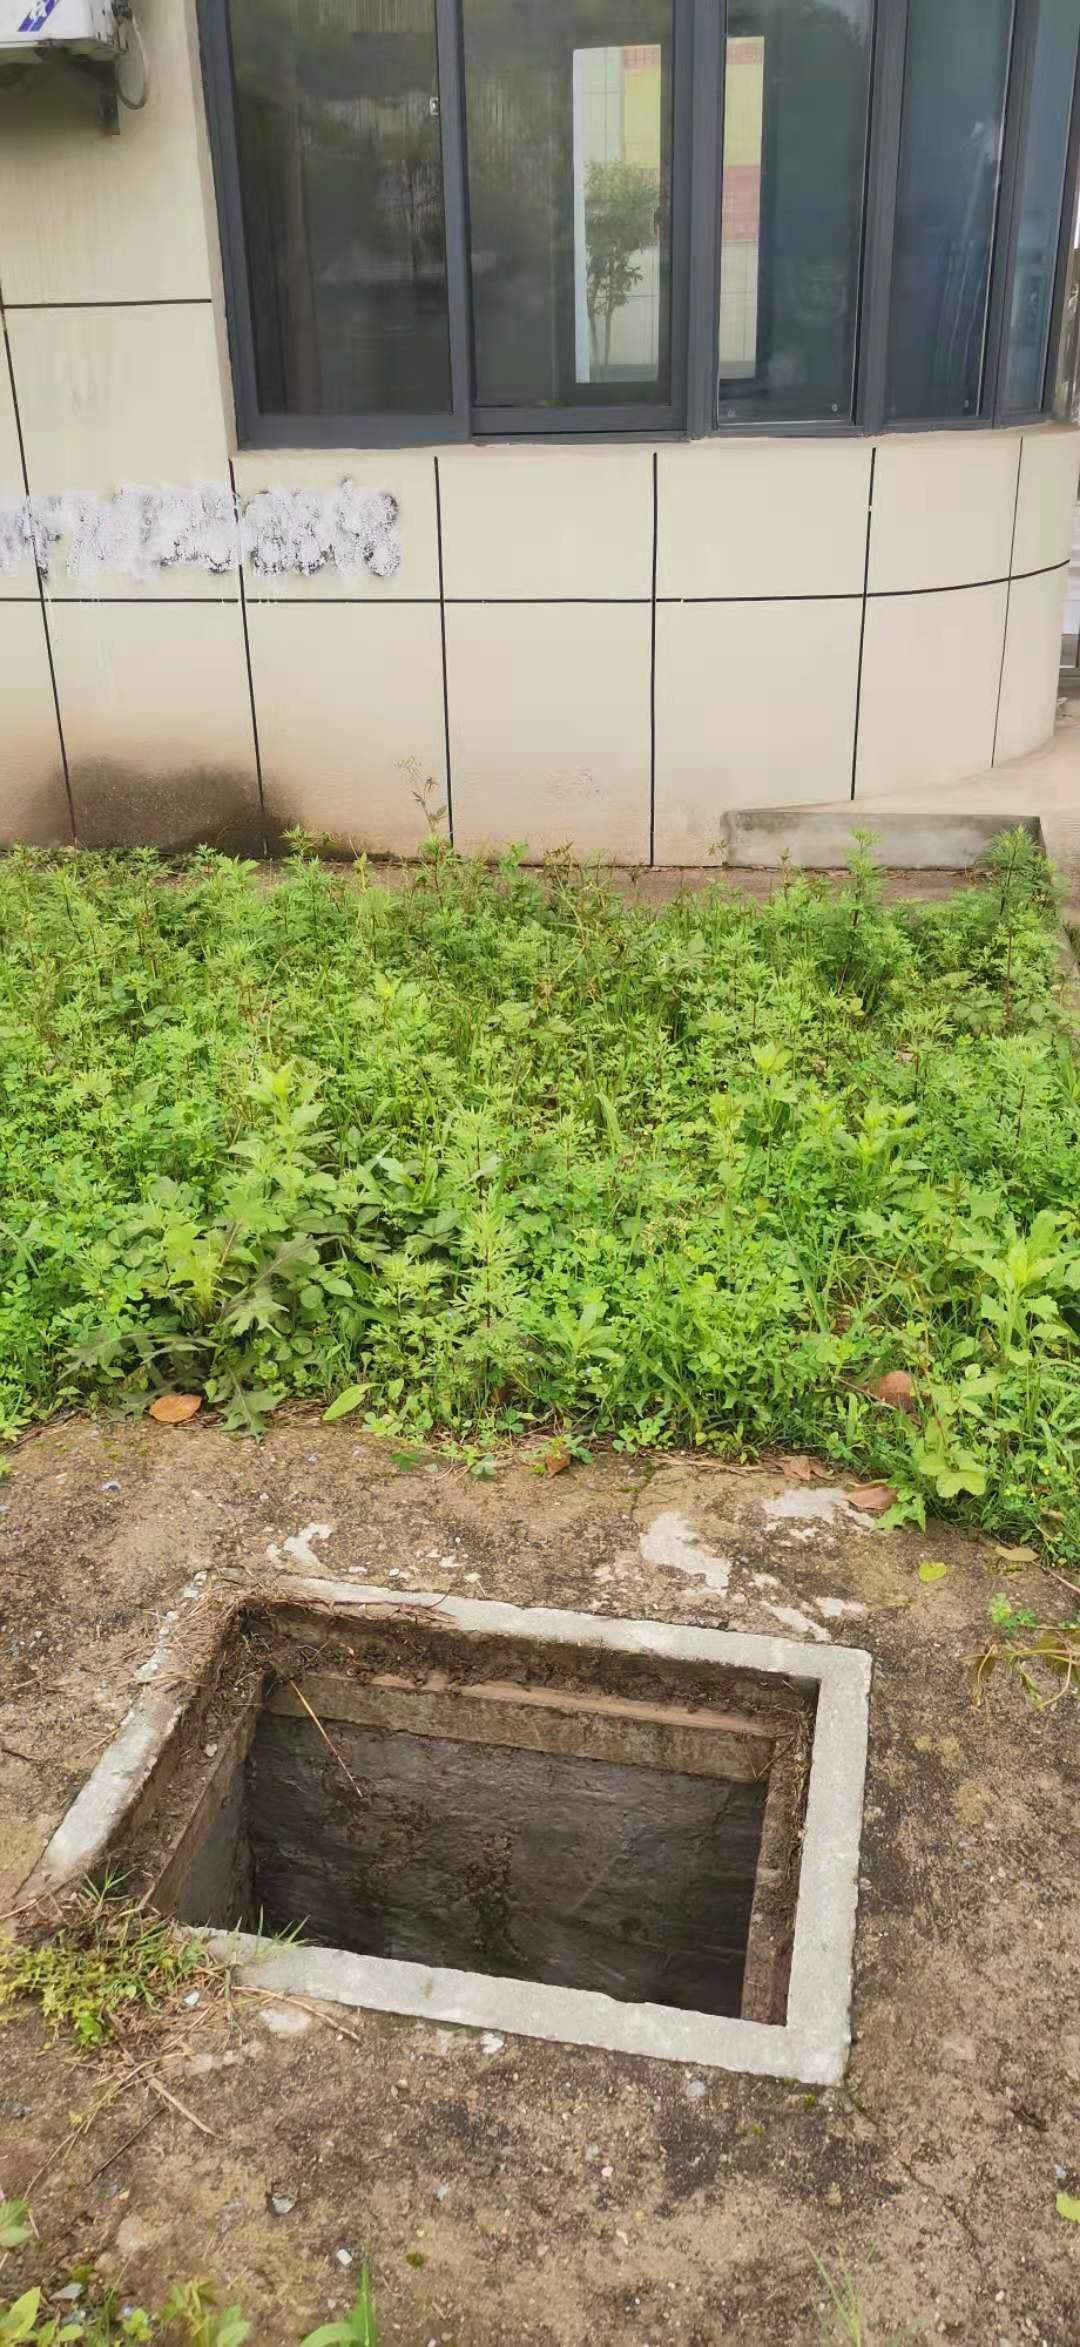lose: (16, 1561, 872, 2100)
